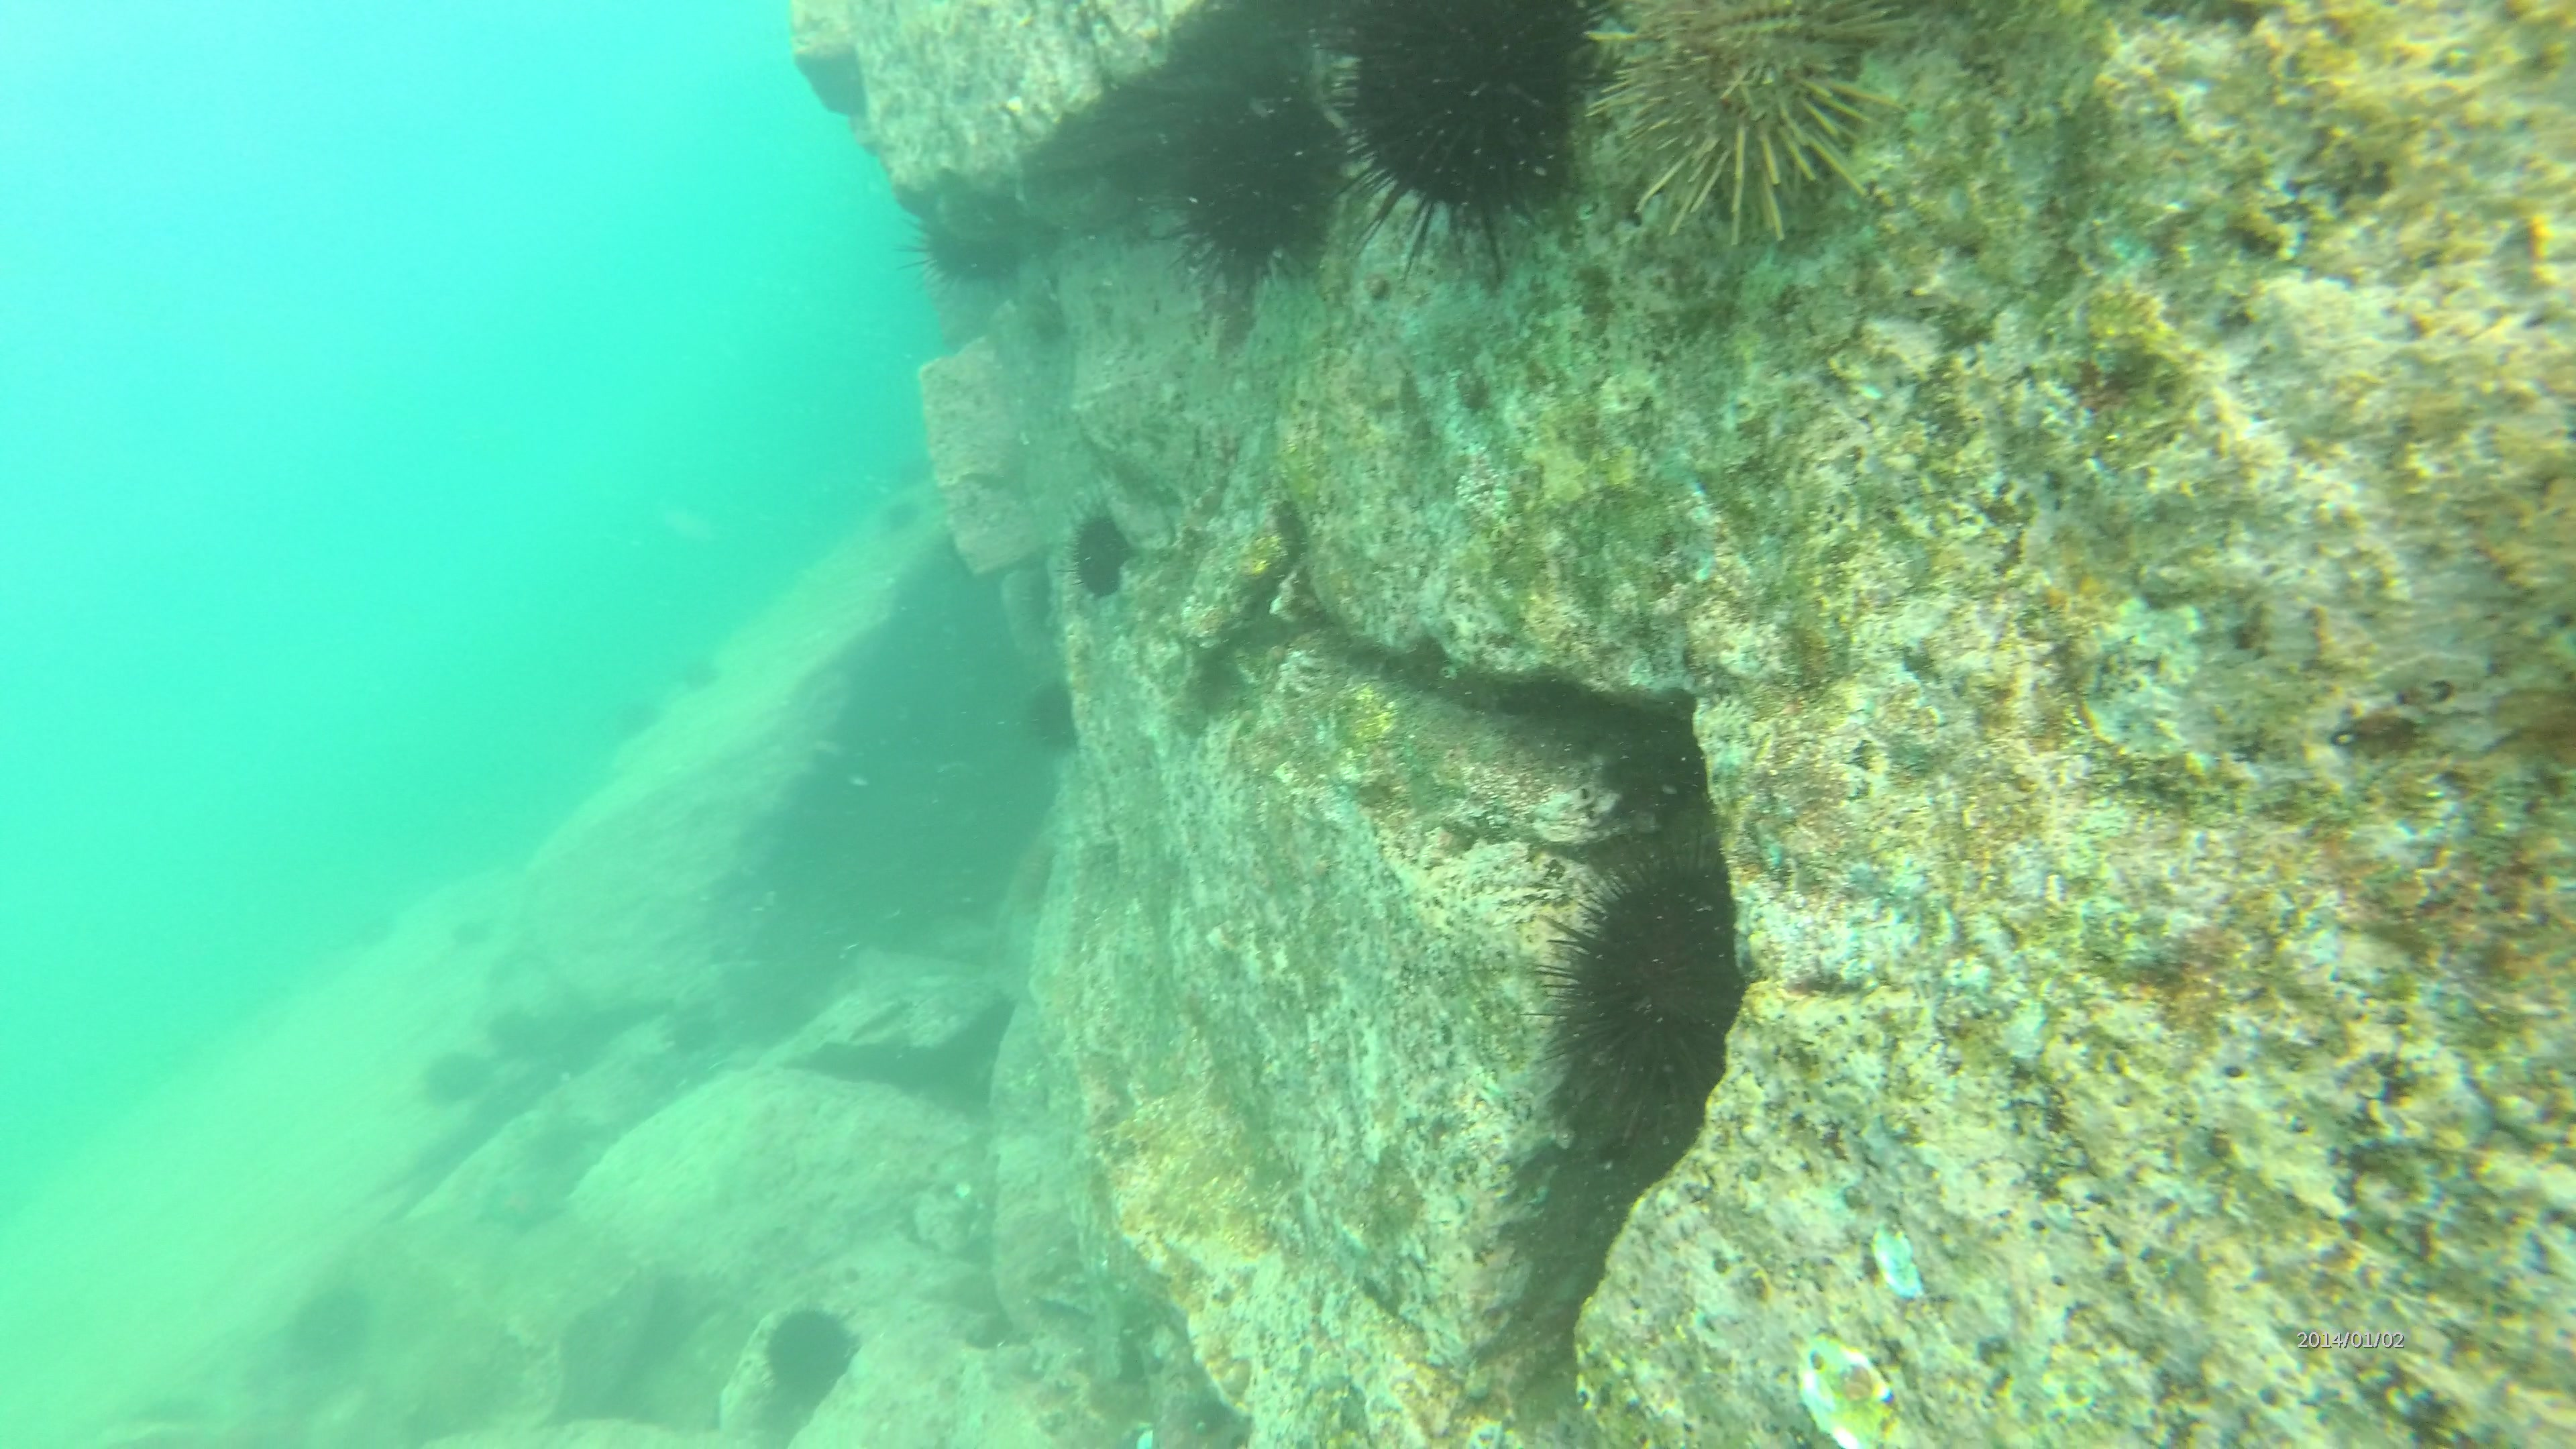echinus: (1523, 832, 1787, 1136), (1601, 0, 1914, 248), (1330, 4, 1594, 280), (1143, 58, 1343, 290), (899, 203, 1030, 299), (759, 1307, 862, 1391), (1060, 499, 1132, 600), (287, 1281, 373, 1353), (1028, 685, 1095, 761), (474, 1005, 548, 1065), (423, 1046, 488, 1100)
